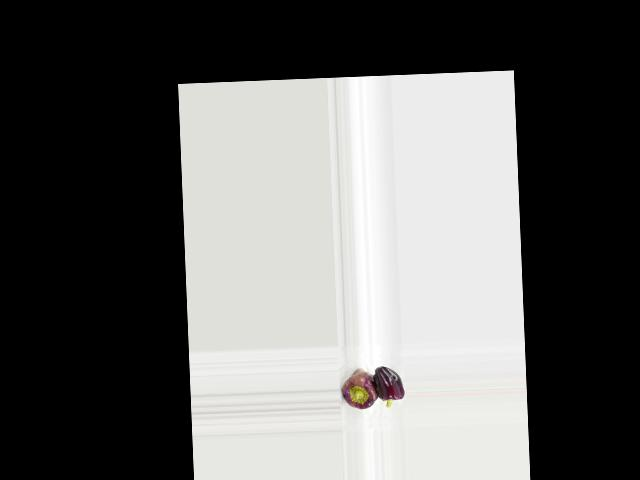bell_pepper: (339, 360, 379, 418)
